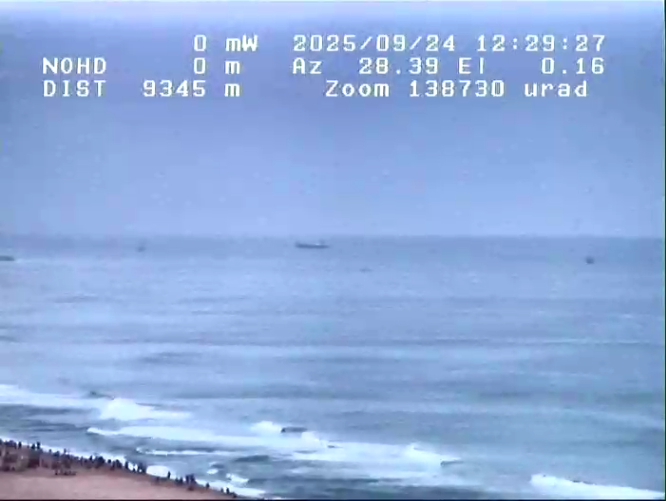TANKER: (283, 227, 345, 252)
